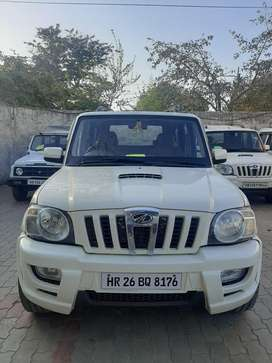HR26BQ8176: (101, 273, 181, 289)
